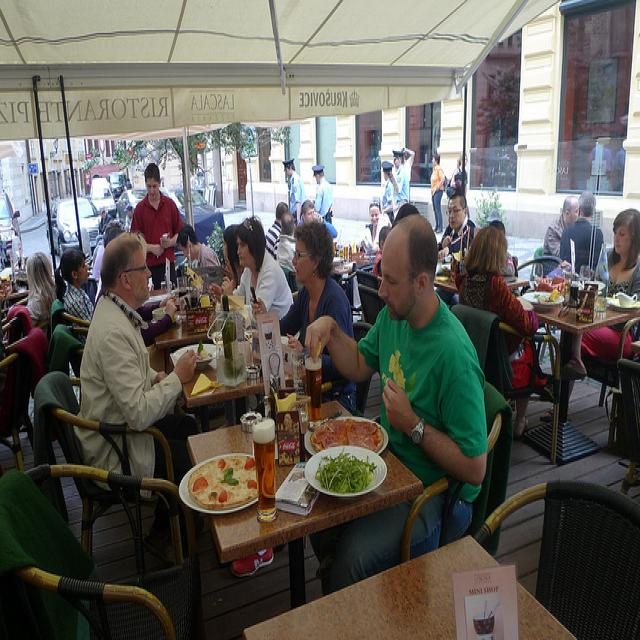Vehicle: (49, 196, 100, 256), (0, 190, 22, 262), (116, 190, 147, 218), (90, 186, 116, 217)
